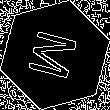M_E: (25, 26, 85, 84)
